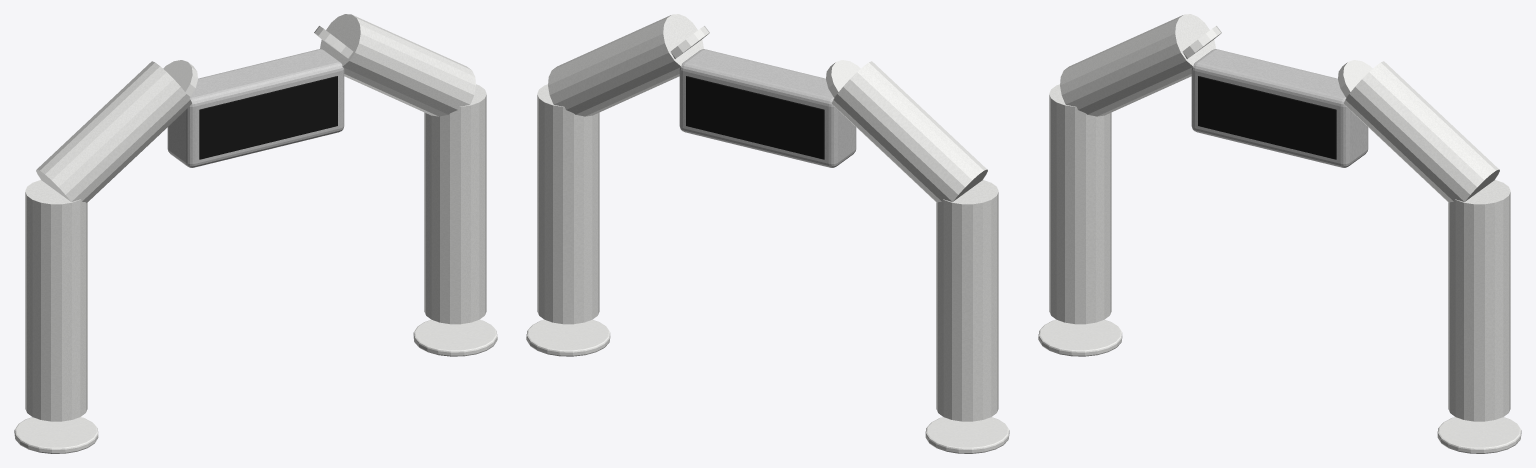
The model's file is arch_preset_white_navyish.dae.
The picture shows the model from 3 angles, left to right: view 1: azimuth 30°, elevation 25°; view 2: azimuth 150°, elevation 25°; view 3: azimuth 330°, elevation 25°; orthographic projection.
Visible parts, largest first — view 1: arch_leg_L, arch_leg_R, arch_arm_L, arch_arm_R, arch_block, arch_logo_plate_0, arch_foot_L, arch_foot_R, arch_conn_L; view 2: arch_leg_L, arch_leg_R, arch_arm_L, arch_arm_R, arch_block, arch_logo_plate_1, arch_foot_L, arch_foot_R, arch_conn_L; view 3: arch_leg_R, arch_leg_L, arch_arm_R, arch_arm_L, arch_block, arch_logo_plate_0, arch_foot_R, arch_foot_L, arch_conn_R.
Part boxes in pixels (box(x1,y1,x2,y2)): arch_leg_L: box(25, 180, 87, 421); arch_leg_R: box(424, 84, 486, 324); arch_arm_L: box(36, 61, 191, 202); arch_arm_R: box(320, 14, 475, 116); arch_block: box(167, 49, 344, 167); arch_logo_plate_0: box(199, 76, 337, 159); arch_foot_L: box(14, 417, 98, 453); arch_foot_R: box(413, 319, 497, 356); arch_conn_L: box(163, 60, 197, 97); arch_leg_L: box(936, 180, 998, 421); arch_leg_R: box(537, 84, 599, 324); arch_arm_L: box(832, 61, 987, 202); arch_arm_R: box(548, 14, 703, 116); arch_block: box(679, 49, 856, 167); arch_logo_plate_1: box(686, 76, 824, 159); arch_foot_L: box(925, 417, 1009, 453); arch_foot_R: box(526, 319, 610, 356); arch_conn_L: box(826, 60, 860, 97); arch_leg_R: box(1448, 180, 1510, 421); arch_leg_L: box(1049, 84, 1111, 324); arch_arm_R: box(1344, 61, 1499, 202); arch_arm_L: box(1060, 14, 1215, 116); arch_block: box(1191, 49, 1368, 167); arch_logo_plate_0: box(1198, 76, 1336, 159); arch_foot_R: box(1437, 417, 1521, 453); arch_foot_L: box(1038, 319, 1122, 356); arch_conn_R: box(1338, 60, 1372, 97).
Bounding box in the file's own units: 9.59 × 1.49 × 6.75.
Materials: 3 (3 with a texture image).
